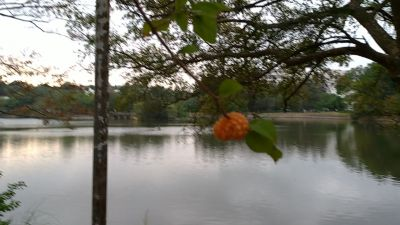eggs: (212, 111, 249, 142)
